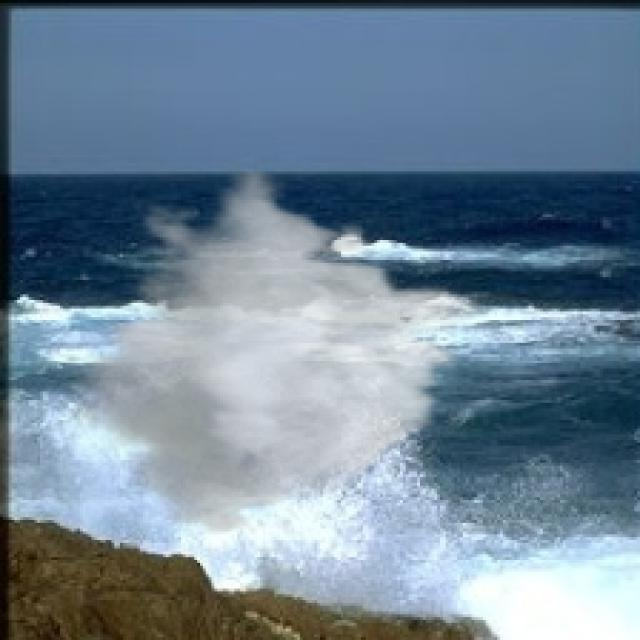smoke: (60, 169, 483, 537)
